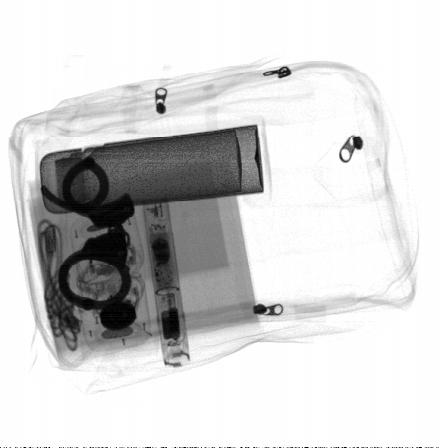Baton: (142, 191, 191, 370)
HandCuffs: (39, 154, 135, 313)
